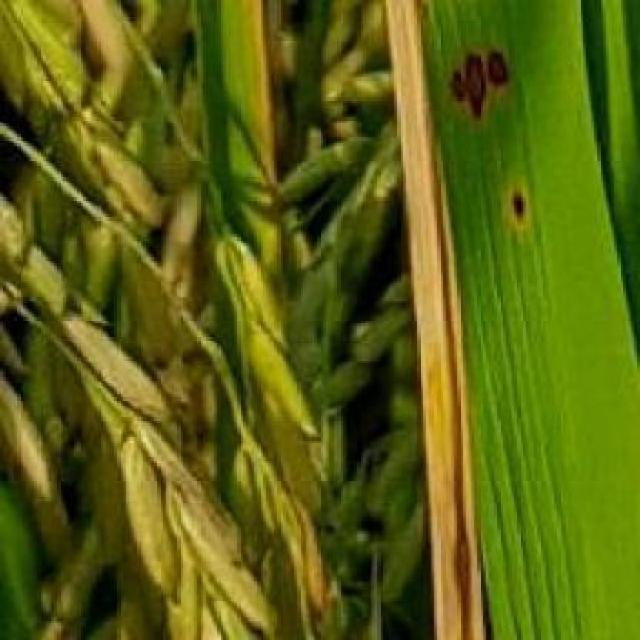Leaf_Blast: (437, 22, 526, 115), (491, 168, 543, 232)
